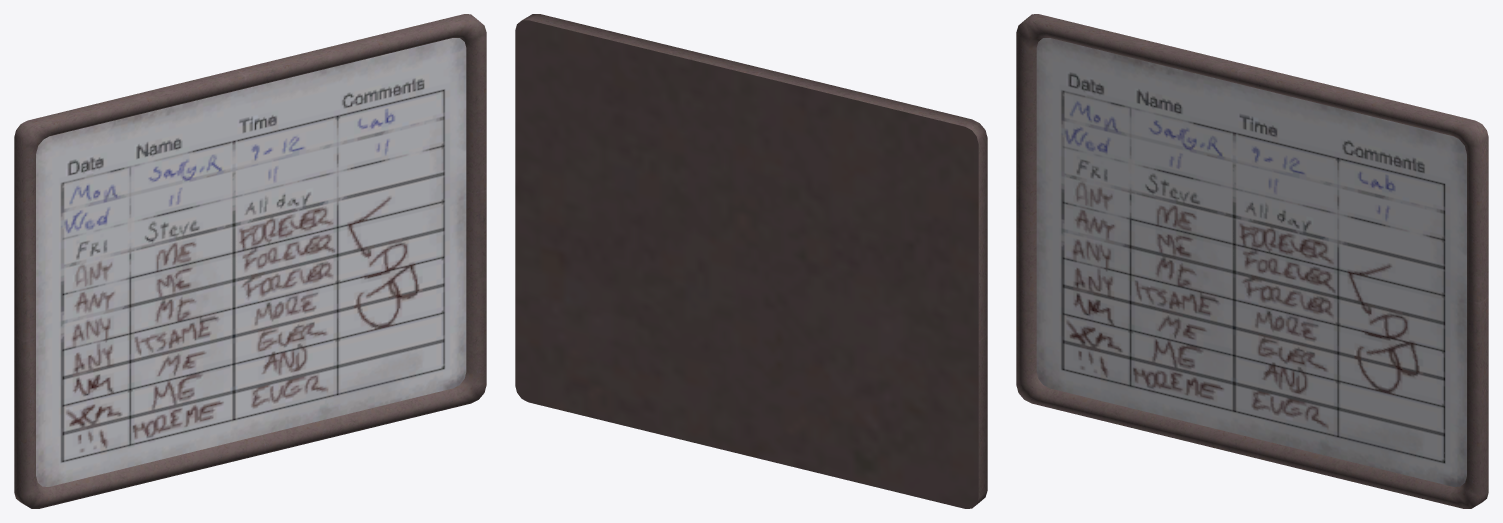
Rendered from schedule_board01_wau.dae.
3 views of the same model, side by side, from view 1: azimuth 30°, elevation 25°; view 2: azimuth 150°, elevation 25°; view 3: azimuth 330°, elevation 25° (orthographic).
Visible parts, largest first — view 1: pCube23; view 2: pCube23; view 3: pCube23.
Boxes of the visible parts, <box> form: pCube23: <box>14,14,486,508</box>; pCube23: <box>515,14,987,508</box>; pCube23: <box>1016,14,1488,508</box>.
Bounding box in the file's own units: 48.9 × 38.55 × 1.7.
1 material, 1 textured.
